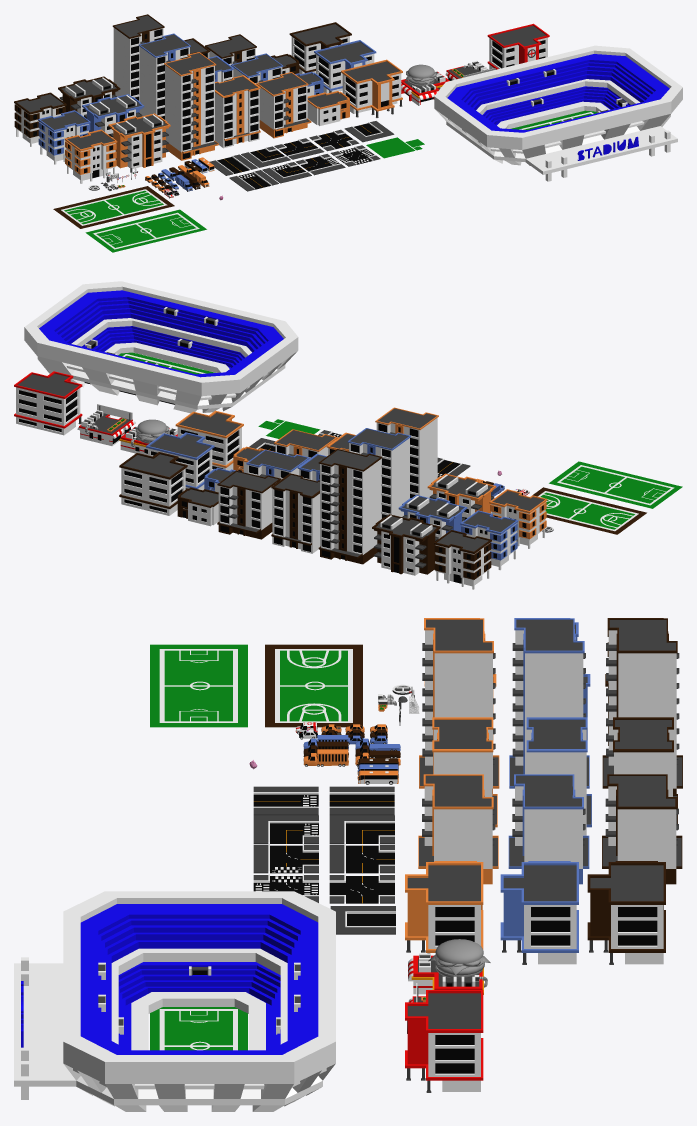
The model's file is 20180403_FBX_All_asset.FBX.
3 views of the same model, one above another, from view 1: azimuth 30°, elevation 25°; view 2: azimuth 150°, elevation 25°; view 3: azimuth 270°, elevation 25° (orthographic). The views are drawn at different scales.
Visible parts, largest first — view 1: Cylinder003, billding_021, billding_018, billding_022, billding_028, tile_school_2, tile_school_001, billding_017, billding_009, billding_019, billding_016, billding_029 (+23 smaller); view 2: Cylinder003, billding_009, billding_029, billding_026, billding_008, billding_010, billding_006, tile_school_001, billding_019, billding_021, tile_school_2, billding_005 (+12 smaller); view 3: Cylinder003, tile_school_001, tile_school_2, billding_019, billding_009, billding_021, billding_026, billding_027, billding_029, billding_010, billding_022, billding_020 (+14 smaller).
Boxes of the visible parts, left/top/right/bottom form: Cylinder003: left=434, top=45, right=682, bottom=181; billding_021: left=164, top=52, right=218, bottom=160; billding_018: left=215, top=75, right=260, bottom=148; billding_022: left=256, top=72, right=311, bottom=138; billding_028: left=341, top=59, right=402, bottom=117; tile_school_2: left=53, top=186, right=174, bottom=228; tile_school_001: left=85, top=209, right=206, bottom=252; billding_017: left=108, top=113, right=170, bottom=168; billding_009: left=112, top=14, right=164, bottom=100; billding_019: left=138, top=33, right=190, bottom=119; billding_016: left=64, top=129, right=117, bottom=183; billding_029: left=487, top=23, right=549, bottom=69; Cylinder003: left=24, top=281, right=298, bottom=413; billding_009: left=318, top=449, right=382, bottom=564; billding_029: left=14, top=371, right=82, bottom=435; billding_026: left=119, top=452, right=187, bottom=515; billding_008: left=271, top=473, right=319, bottom=553; billding_010: left=217, top=470, right=280, bottom=539; billding_006: left=372, top=514, right=440, bottom=575; tile_school_001: left=549, top=461, right=682, bottom=508; billding_019: left=347, top=428, right=410, bottom=519; billding_021: left=375, top=407, right=438, bottom=497; tile_school_2: left=532, top=487, right=646, bottom=534; billding_005: left=434, top=530, right=491, bottom=589; Cylinder003: left=14, top=891, right=335, bottom=1111; tile_school_001: left=150, top=644, right=247, bottom=727; tile_school_2: left=265, top=644, right=362, bottom=727; billding_019: left=509, top=618, right=589, bottom=788; billding_009: left=602, top=618, right=682, bottom=793; billding_021: left=419, top=618, right=499, bottom=793; billding_026: left=587, top=862, right=665, bottom=964; billding_027: left=500, top=862, right=578, bottom=964; billding_029: left=405, top=990, right=483, bottom=1092; billding_010: left=602, top=774, right=682, bottom=884; billding_022: left=418, top=774, right=498, bottom=884; billding_020: left=508, top=774, right=589, bottom=884.
Bounding box in the file's own units: 6940 × 1047 × 4036.
